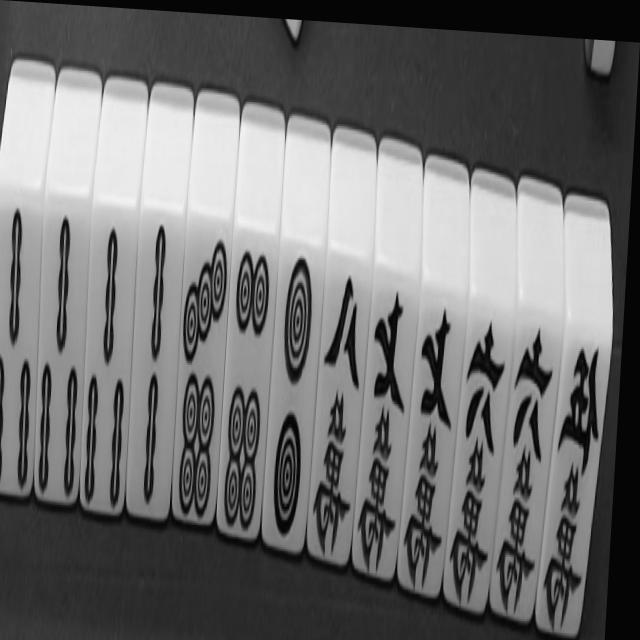m5: (535, 194, 622, 640)
m6: (488, 178, 572, 636), (440, 168, 523, 624)
m7: (396, 155, 478, 607), (350, 137, 430, 588)
m8: (305, 125, 383, 573)
s2: (120, 84, 196, 534)
s3: (25, 67, 105, 522), (73, 76, 150, 530), (0, 59, 58, 513)
t2: (260, 114, 335, 562)
t6: (215, 103, 289, 550)
t7: (165, 91, 241, 539)
